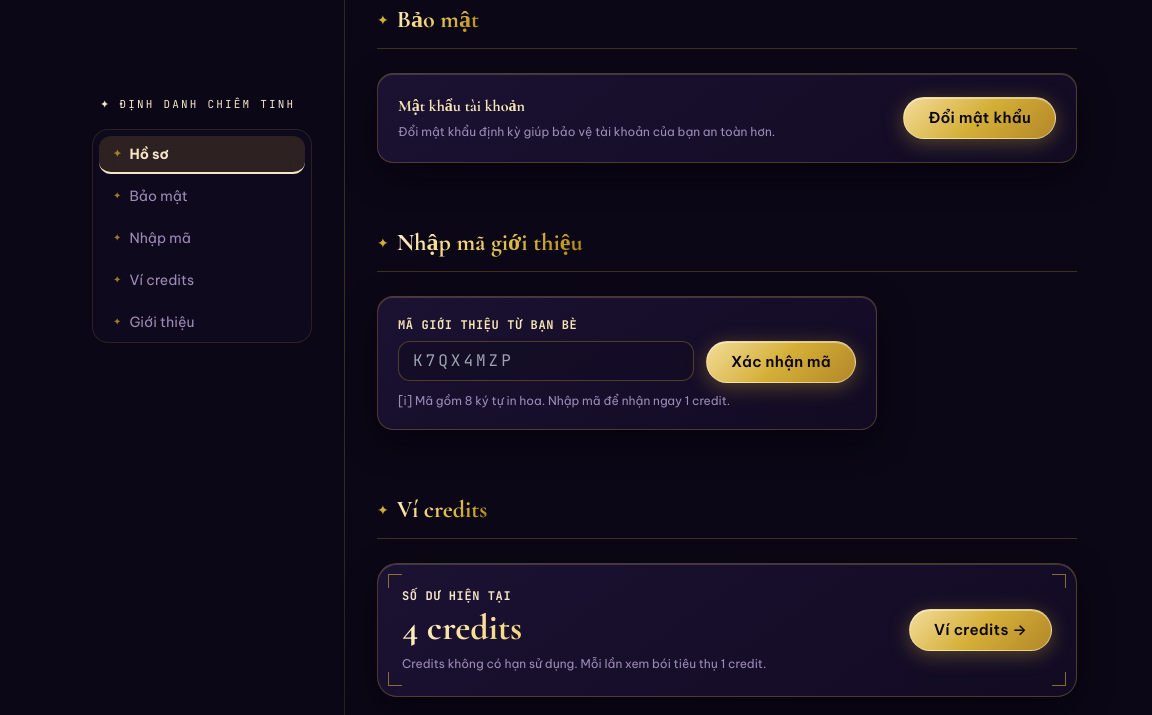
Scenario: Account Page › Nhập mã giới thiệu Section (#nhap-ma) › should handle REFERRAL_CODE_NOT_FOUND error
This screenshot has width=1152, height=715.
(page scrolled)
Step 1. Type "ZZZZZZZZ" into the field with placeholder "K7QX4MZP" → (546, 360), box [398, 340, 694, 380]
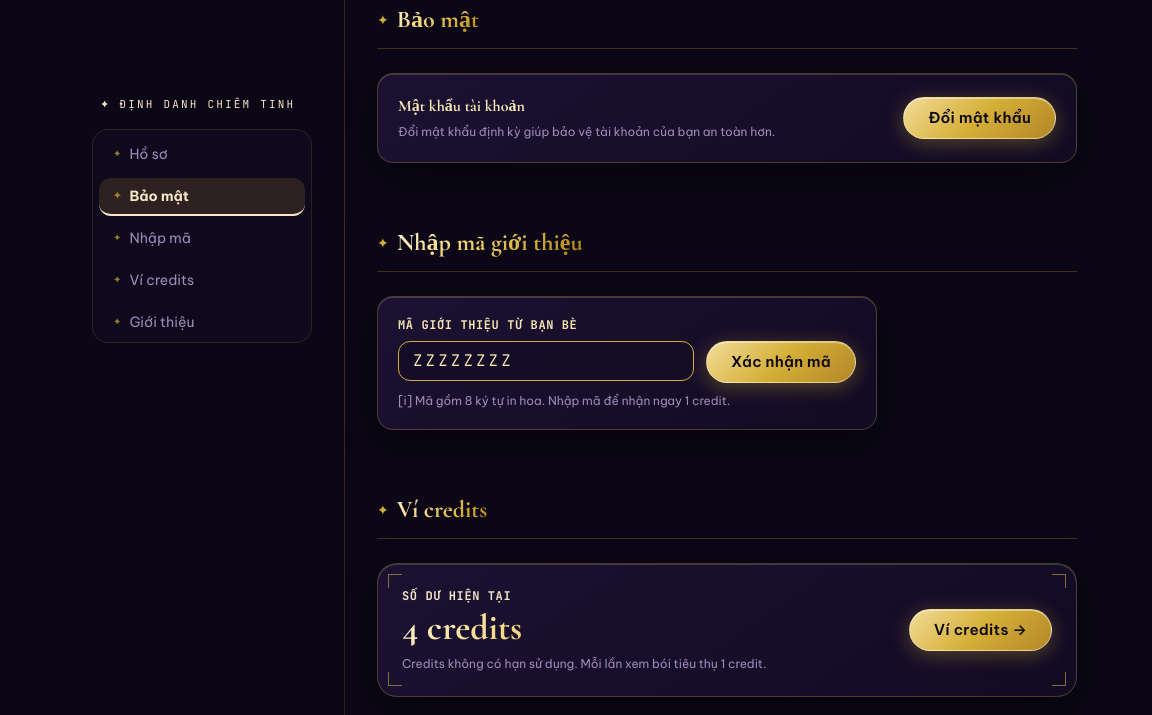
Step 2. Click the button "Xác nhận mã" → (781, 362), box [706, 340, 856, 382]
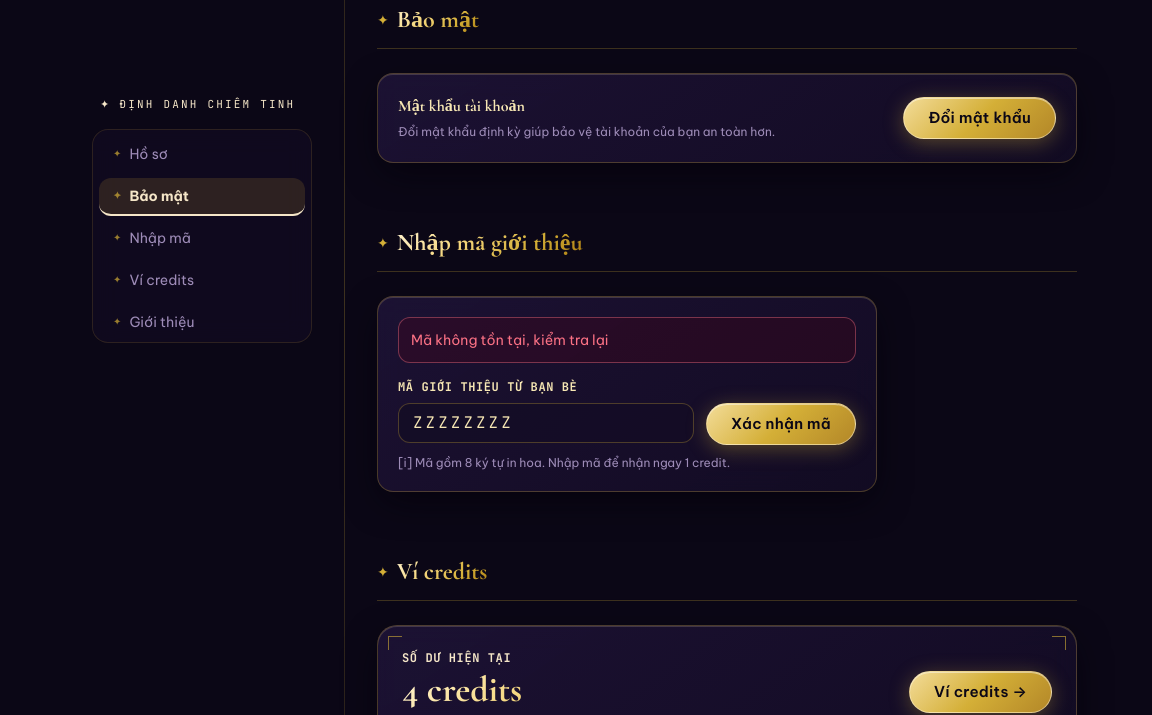
expect the text "Mã không tồn tại, kiểm tra lại" is shown: met, box [398, 316, 856, 362]
